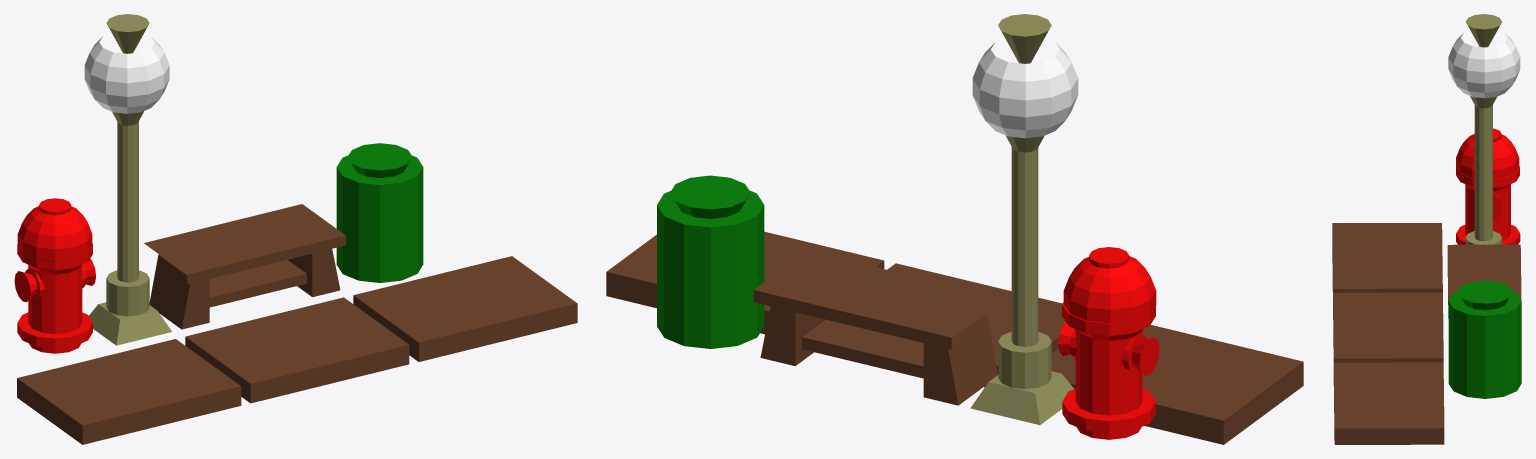
3 views of the same model, side by side, from view 1: azimuth 30°, elevation 25°; view 2: azimuth 150°, elevation 25°; view 3: azimuth 270°, elevation 25° (orthographic). The views are drawn at different scales.
Visible parts, largest first — view 1: polySurface245, polySurface482, polySurface283, polySurface232, polySurface483, polySurface353; view 2: polySurface482, polySurface245, polySurface283, polySurface232, polySurface483, polySurface353; view 3: polySurface245, polySurface283, polySurface483, polySurface232, polySurface353, polySurface482.
Boxes of the visible parts, x1=… form: polySurface245: x1=17, y1=256, x2=577, y2=444; polySurface482: x1=144, y1=204, x2=345, y2=329; polySurface283: x1=336, y1=143, x2=423, y2=282; polySurface232: x1=14, y1=198, x2=95, y2=353; polySurface483: x1=89, y1=14, x2=171, y2=345; polySurface353: x1=84, y1=36, x2=169, y2=113; polySurface482: x1=753, y1=250, x2=1004, y2=405; polySurface245: x1=606, y1=231, x2=1303, y2=444; polySurface283: x1=657, y1=175, x2=764, y2=348; polySurface232: x1=1058, y1=247, x2=1159, y2=439; polySurface483: x1=970, y1=14, x2=1073, y2=424; polySurface353: x1=972, y1=42, x2=1078, y2=138; polySurface245: x1=1332, y1=223, x2=1444, y2=444; polySurface283: x1=1448, y1=280, x2=1521, y2=398; polySurface483: x1=1465, y1=14, x2=1502, y2=244; polySurface232: x1=1456, y1=128, x2=1520, y2=244; polySurface353: x1=1448, y1=33, x2=1520, y2=98; polySurface482: x1=1447, y1=244, x2=1521, y2=318.
Size of the model in its own units: 12.36 by 7.69 by 4.82.
